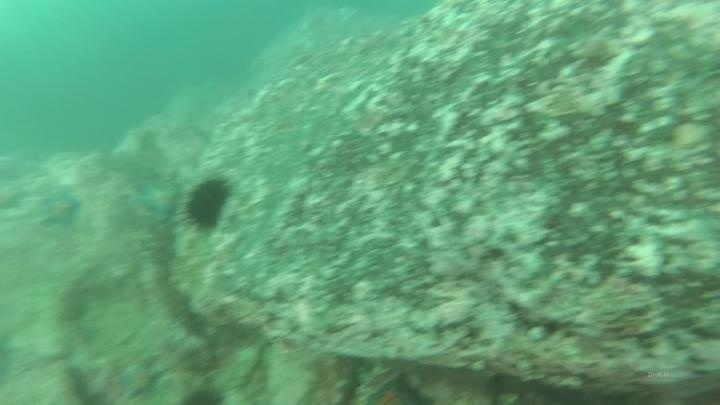echinus: (181, 174, 234, 234)
starfish: (113, 355, 170, 403), (359, 369, 435, 404), (36, 185, 86, 233), (133, 179, 183, 223)
